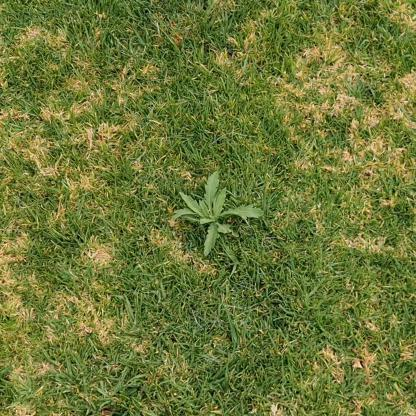Weeds: (173, 172, 265, 258)
